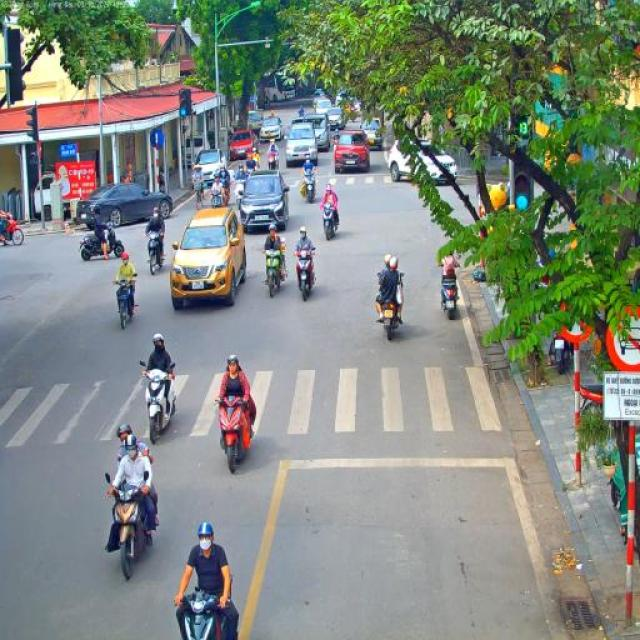bus: (265, 70, 296, 104)
car: (170, 206, 248, 310), (77, 182, 173, 228), (387, 135, 458, 186), (240, 170, 290, 234), (332, 128, 370, 174), (285, 122, 319, 168), (291, 114, 331, 152), (195, 149, 226, 190), (229, 129, 260, 167), (260, 117, 284, 144), (324, 107, 344, 137), (247, 111, 263, 138), (315, 98, 333, 118), (312, 90, 326, 110), (336, 95, 348, 107)
motorcycle: (103, 470, 152, 580), (138, 360, 180, 444), (213, 394, 256, 474), (174, 589, 234, 640), (77, 222, 125, 262), (379, 275, 402, 340), (112, 273, 138, 329), (293, 249, 317, 301), (550, 320, 572, 376), (262, 248, 286, 297), (140, 230, 164, 276), (440, 265, 460, 320), (318, 200, 341, 240), (0, 210, 24, 246), (302, 171, 316, 204), (234, 178, 247, 210), (208, 189, 228, 209), (218, 177, 232, 204), (266, 150, 280, 174), (245, 167, 259, 176), (332, 138, 339, 152)
truck: (341, 116, 384, 152)
